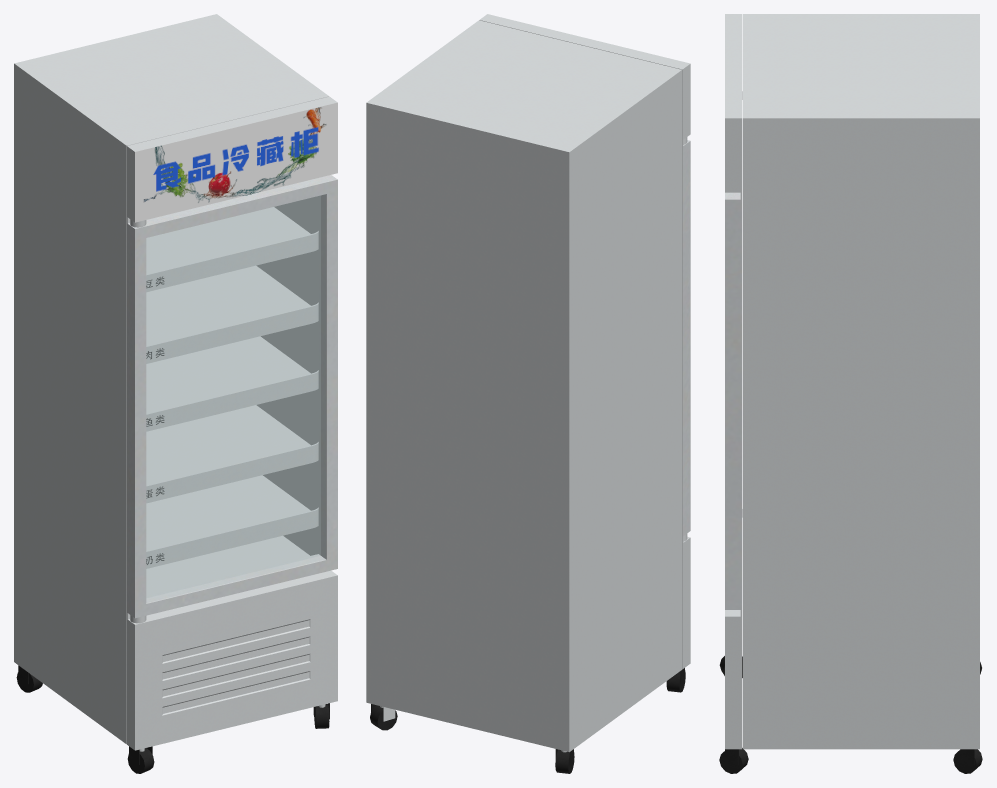
File: SM_冷藏柜.FBX
The picture shows the model from 3 angles, left to right: view 1: azimuth 30°, elevation 25°; view 2: azimuth 150°, elevation 25°; view 3: azimuth 270°, elevation 25°; orthographic projection. The views are drawn at different scales.
Visible parts, largest first — view 1: SM_冷藏柜; view 2: SM_冷藏柜; view 3: SM_冷藏柜.
Part boxes in pixels (x1,y1,x2,y2): SM_冷藏柜: [14, 14, 337, 773]; SM_冷藏柜: [366, 14, 690, 773]; SM_冷藏柜: [719, 14, 982, 773].
Size of the model in its own units: 660 by 1945 by 704.
